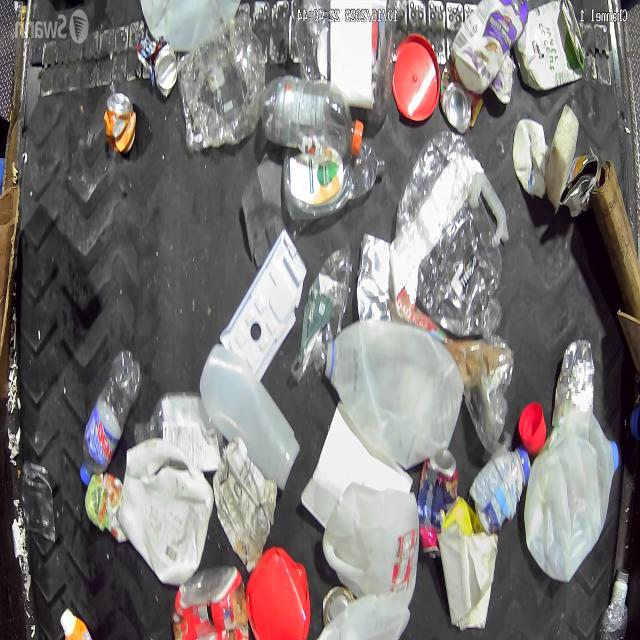can: (416, 446, 460, 554), (552, 339, 594, 427), (356, 232, 391, 322), (84, 472, 128, 543), (512, 119, 549, 203), (439, 63, 482, 133), (558, 153, 598, 219), (136, 36, 177, 98), (101, 90, 137, 156)
milk_jug: (326, 318, 462, 465), (522, 403, 619, 581), (199, 345, 300, 486), (121, 440, 213, 587), (319, 485, 418, 603), (136, 0, 242, 51), (309, 592, 410, 640)
plastic_bottle: (395, 130, 506, 337), (283, 140, 385, 222), (79, 348, 141, 481), (263, 76, 362, 157), (600, 599, 628, 640)
